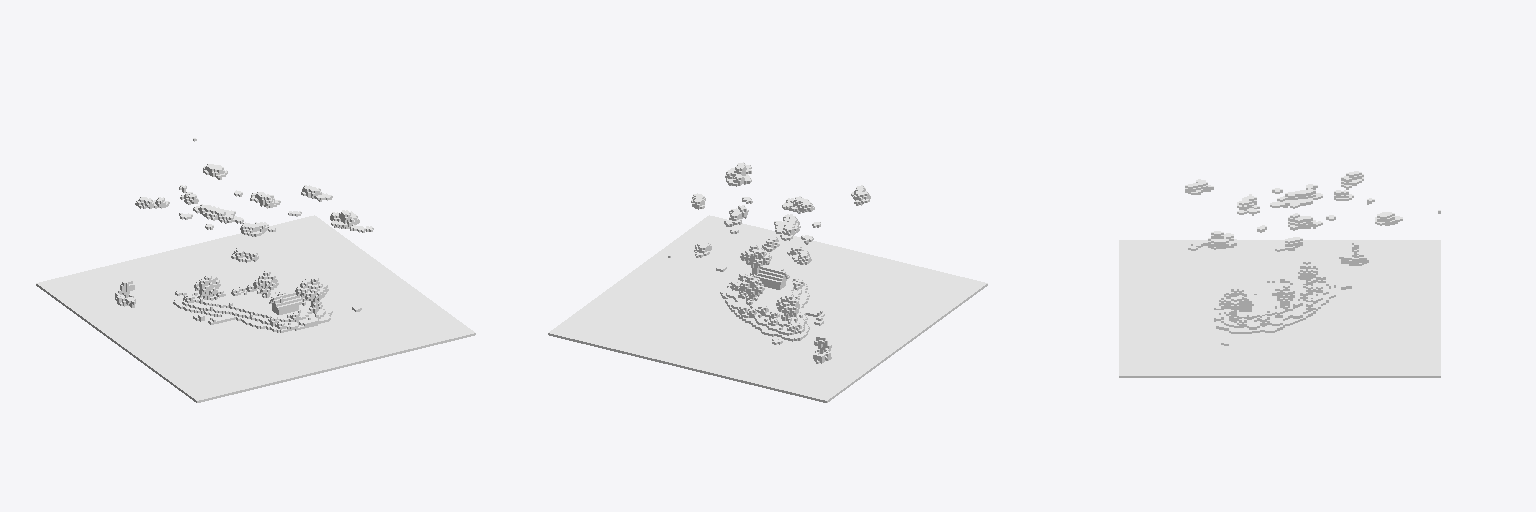
File: littleisle.obj
3 views of the same model, side by side, from view 1: azimuth 30°, elevation 25°; view 2: azimuth 150°, elevation 25°; view 3: azimuth 270°, elevation 25° (orthographic).
Bounding box in the file's own units: 126 × 47 × 126.